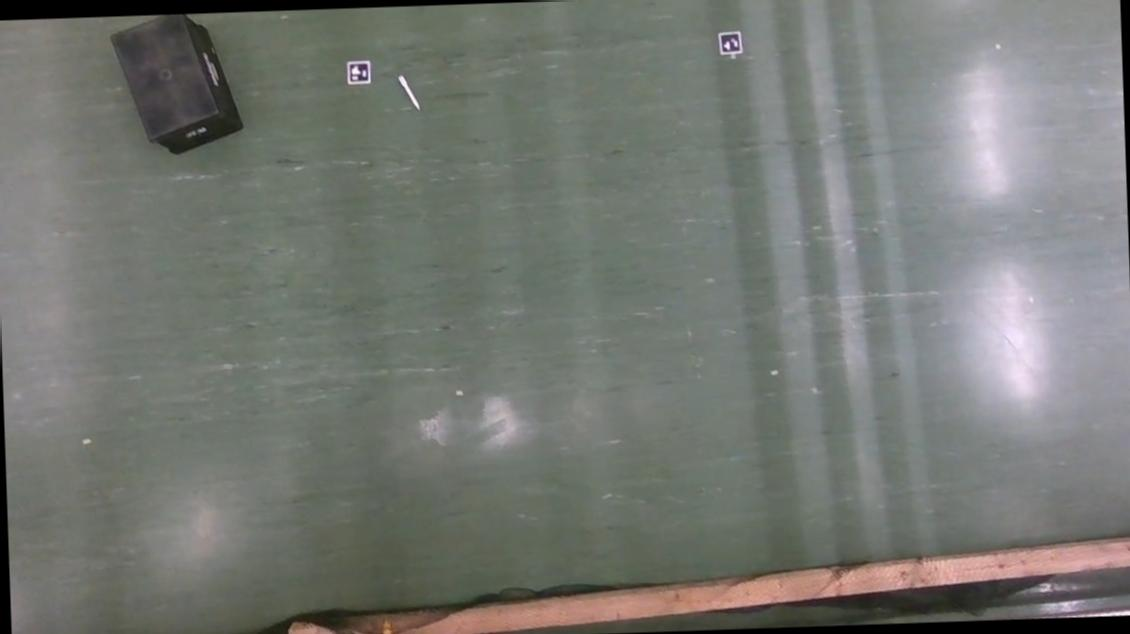probes: (401, 75, 418, 110)
rako: (108, 11, 242, 158)
